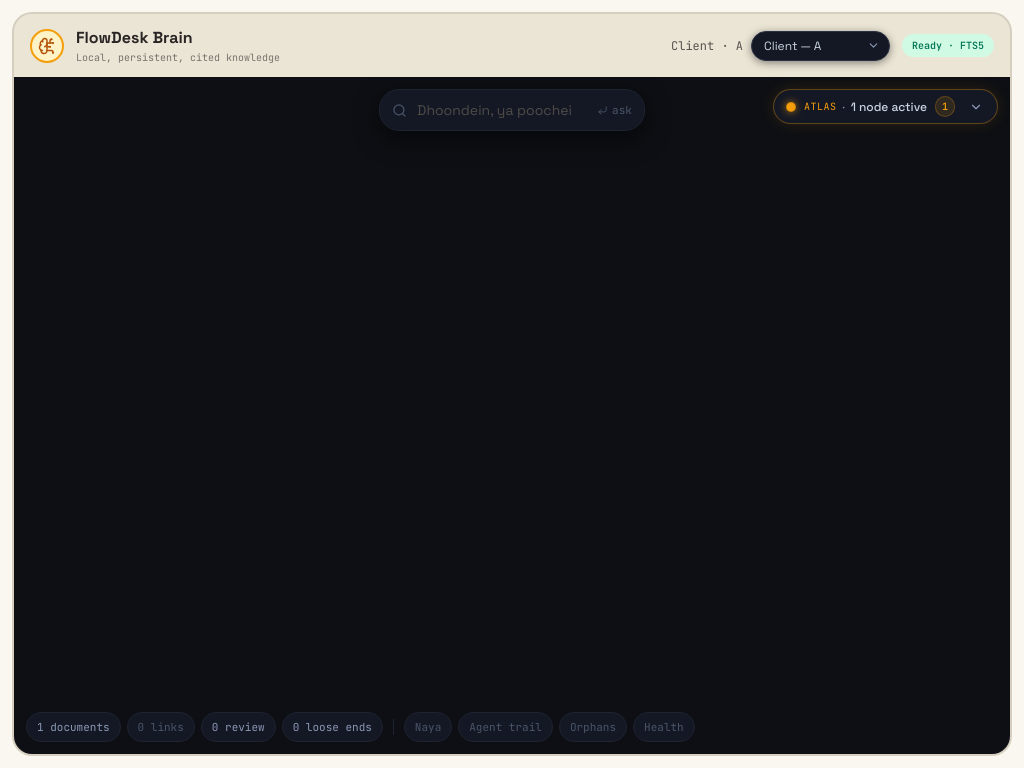
Scenario: Brain document reader › renders the body as markdown rather than raw text
Expected: the text "Client · A" is shown, [671, 38, 743, 54]
Type "Yasir" into the search field. click: [502, 110]
box: [417, 100, 587, 120]
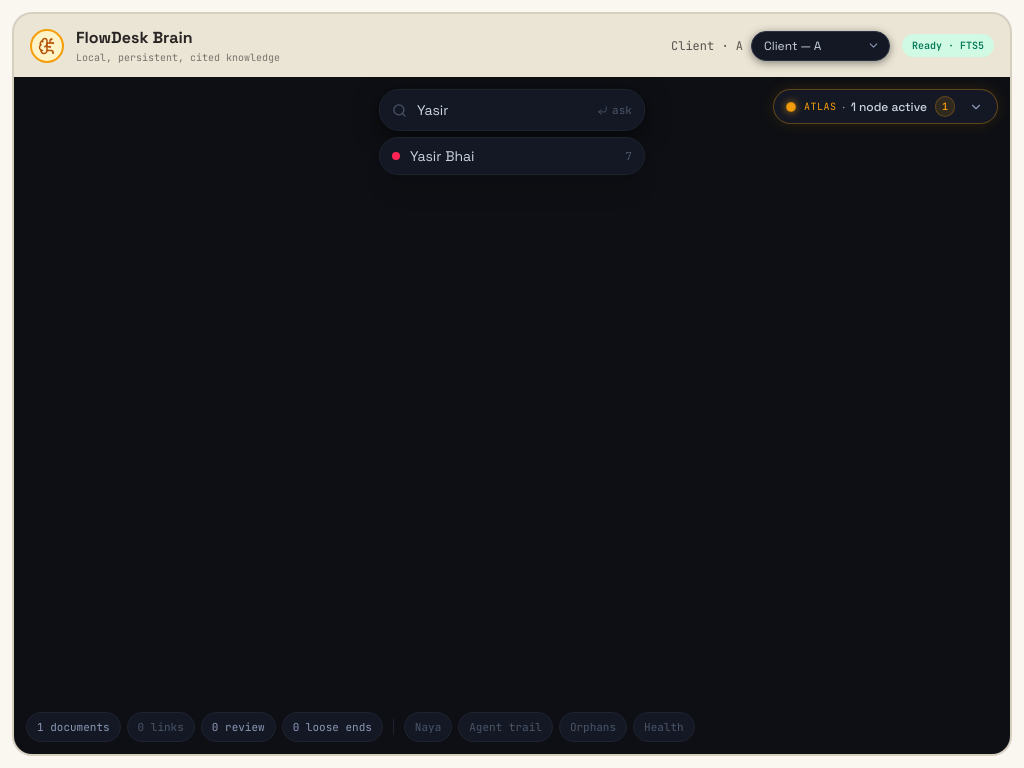
Click the button "Yasir Bhai 7". click: [442, 156]
box: [380, 138, 644, 174]
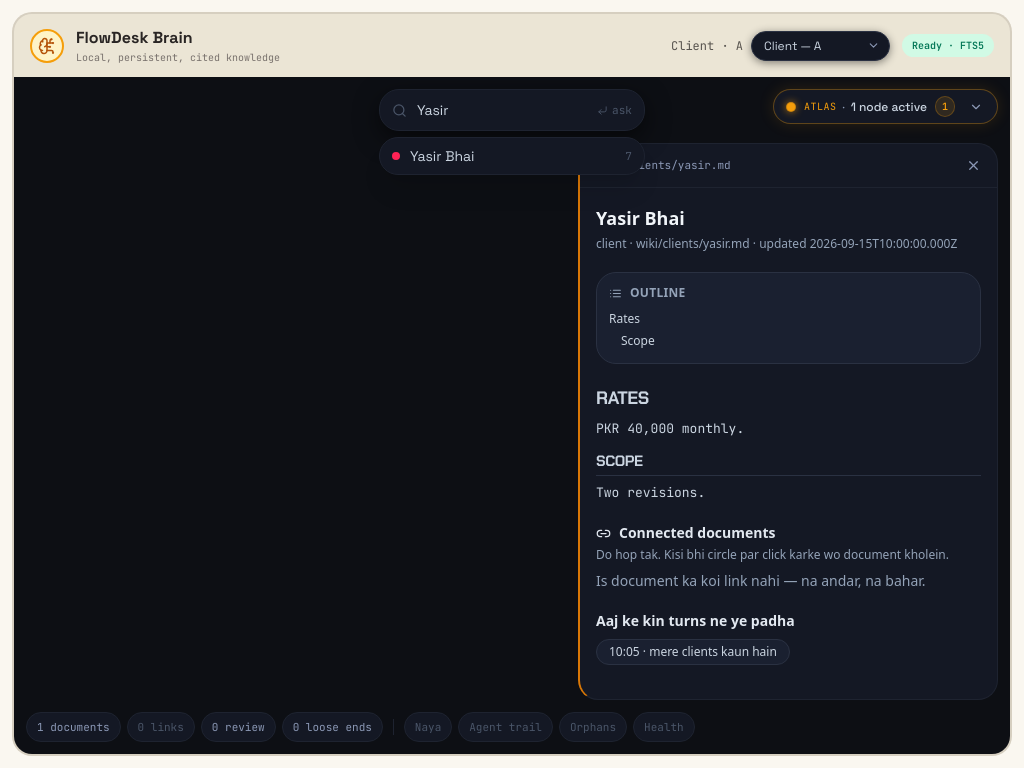
Expected: the heading "Yasir Bhai" is shown, [596, 206, 685, 230]
Expected: the heading "Rates" is shown, [596, 386, 649, 410]
